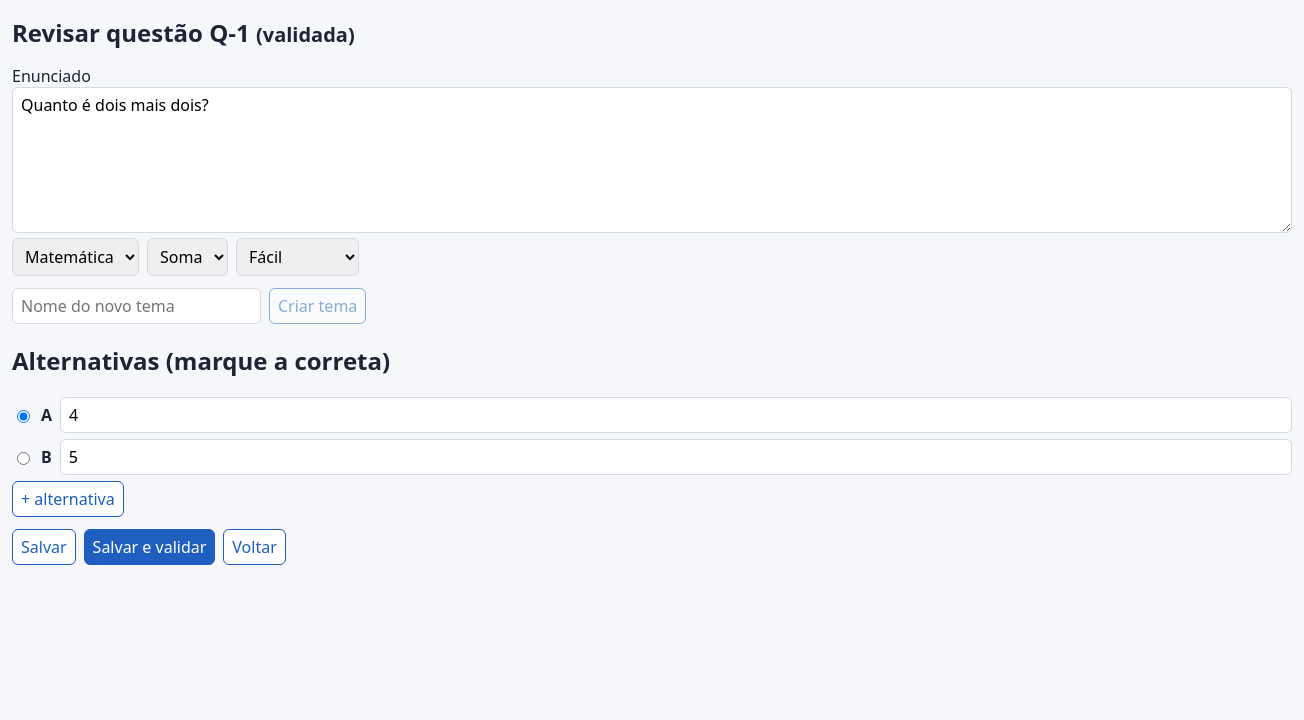
Test case: Telas React › permite criar tema e selecioná-lo para revisão
The width and height of the screenshot is (1304, 720).
Expected: the text box showing "Quanto é dois mais dois?" is shown, [12,87,1292,233]
Step 1. Type "Soma" into the field labelled "Nome do novo tema" → {"x": 136, "y": 306}, box [12,288,261,324]
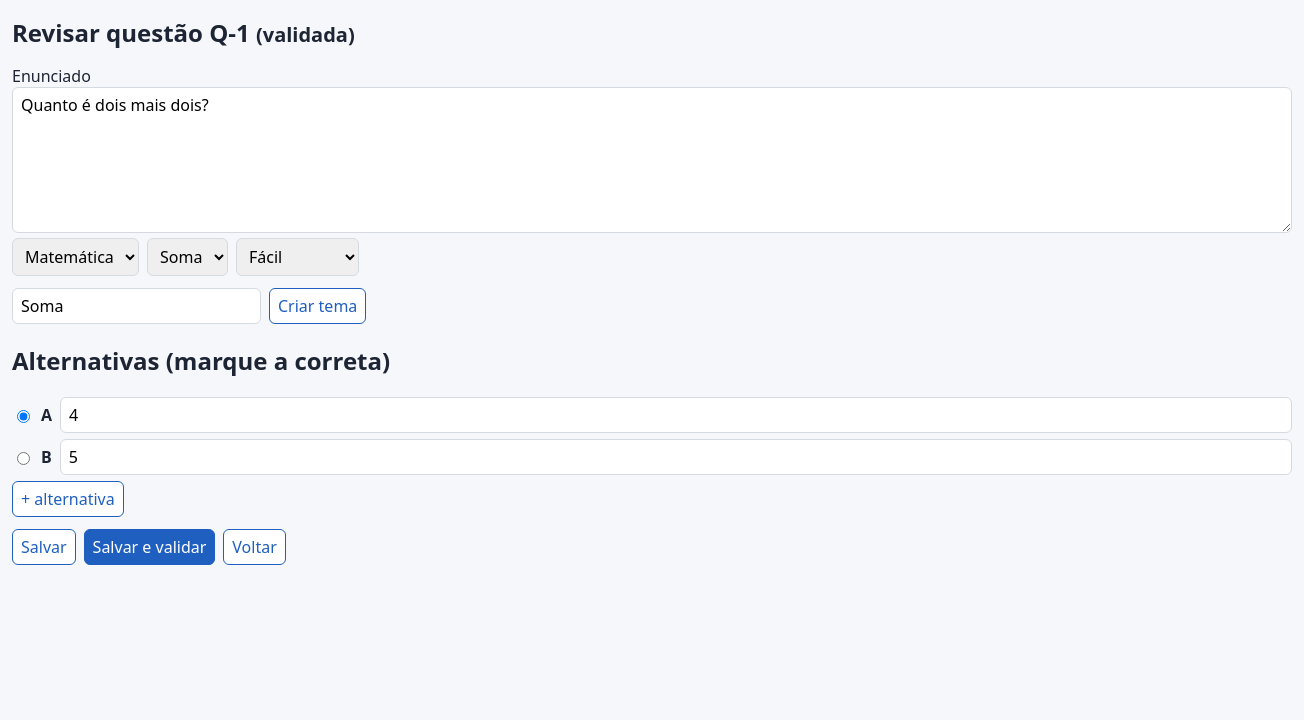
Step 2. Click the button "Criar tema" → {"x": 318, "y": 306}, box [269,288,366,324]
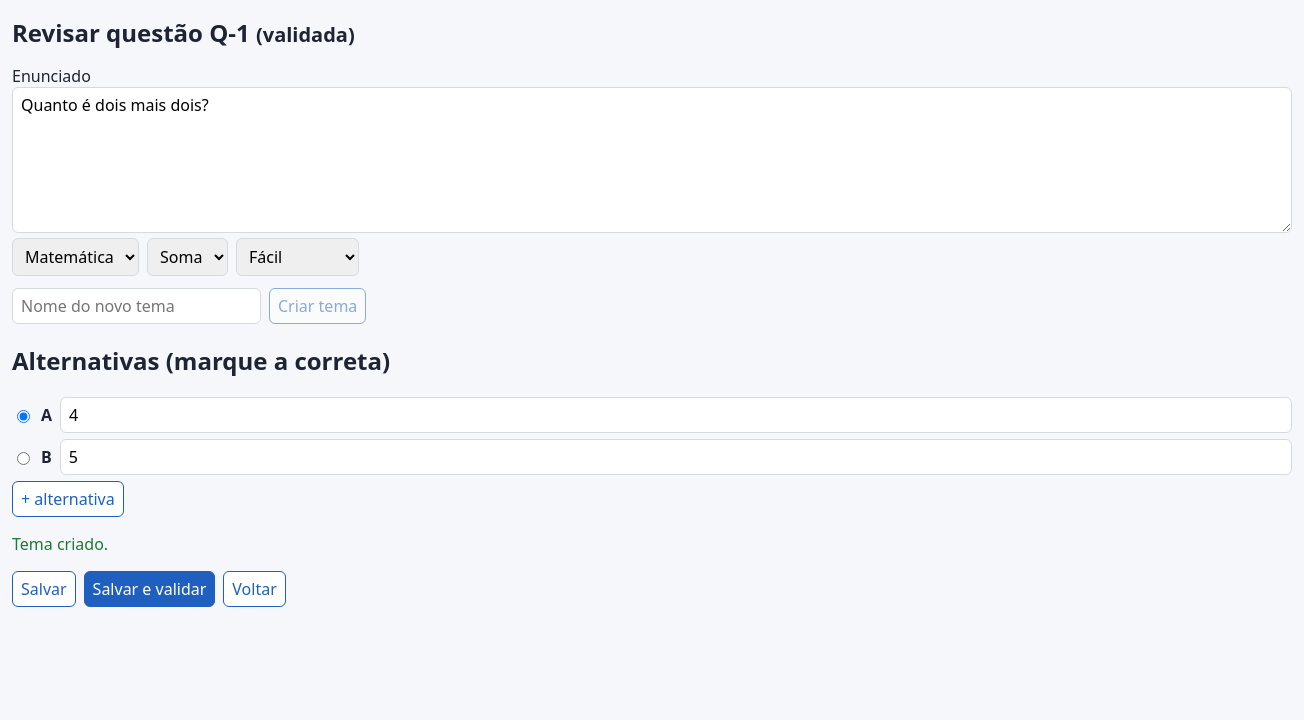
Result: the text "Tema criado." is shown at [12,533,108,555]
